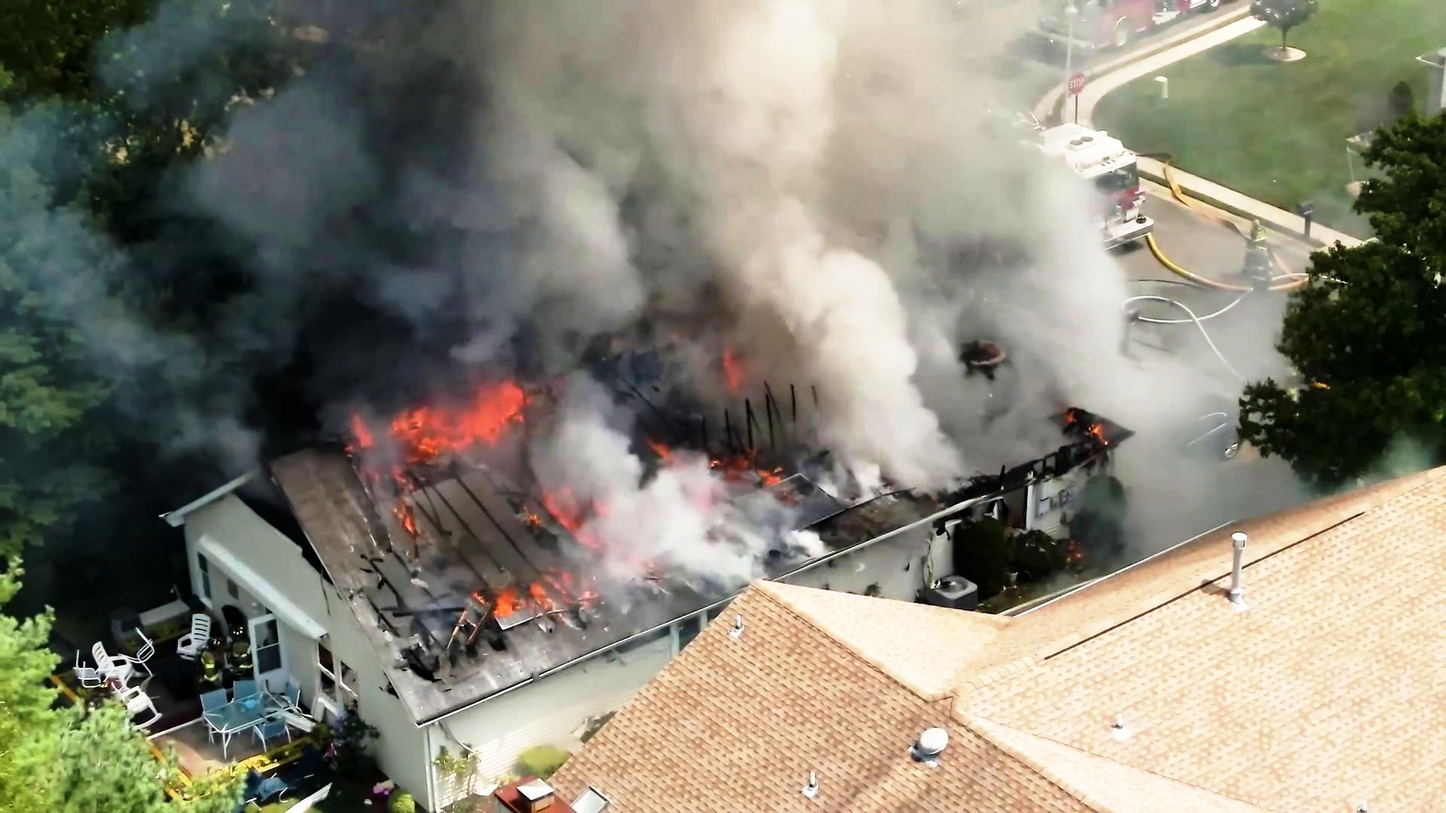smoke: (245, 0, 1016, 296), (801, 232, 929, 479)
